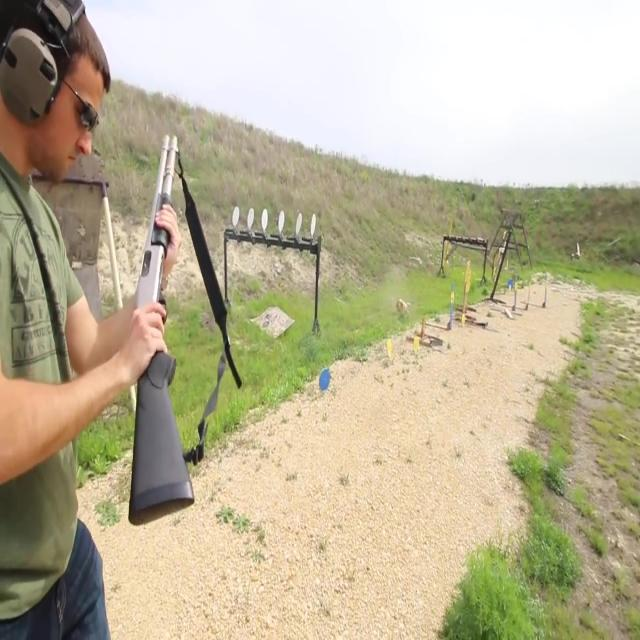Weapon: (104, 85, 252, 549)
